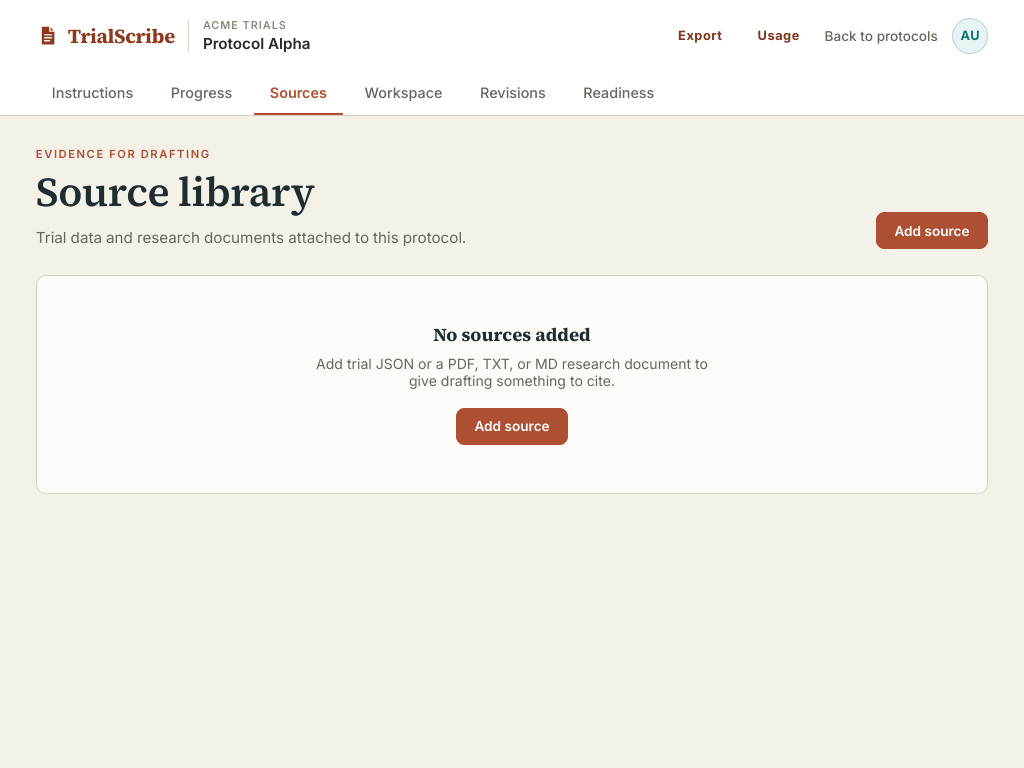
Test: SourceLibraryPage › tracks the accepted file types against the chosen kind
Click the button "Add source" in the row of "Source library" at (932,231), box [876,212,988,249]
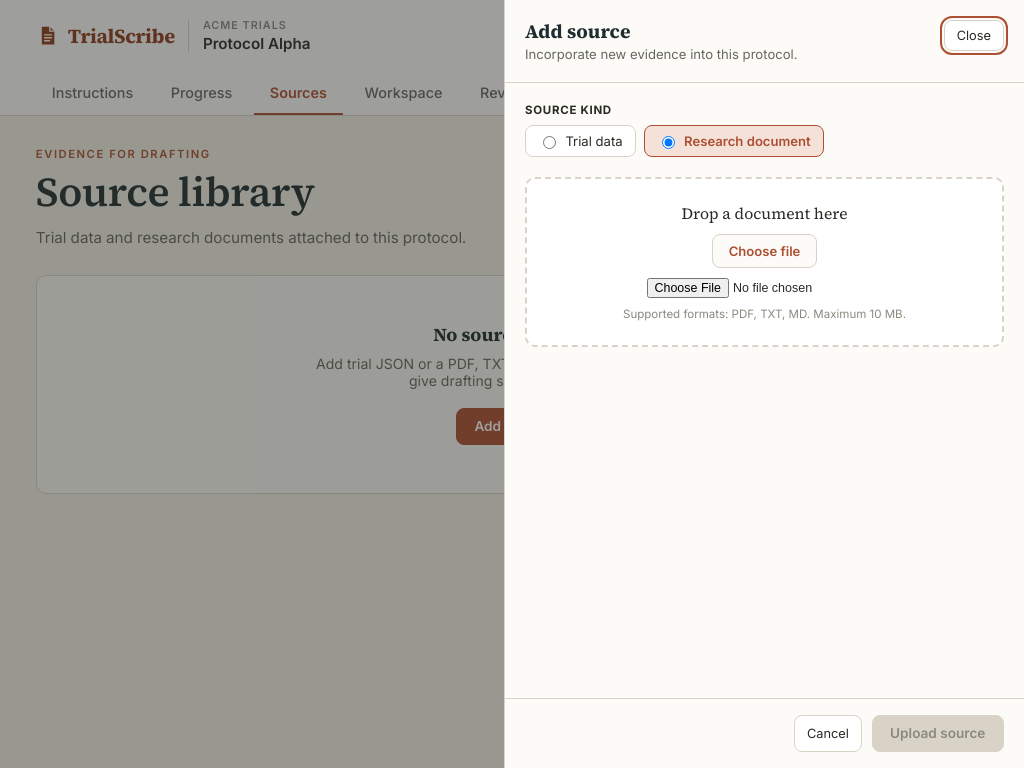
Click the radio button labelled "Trial data" at (550,143), box [543,136,556,149]
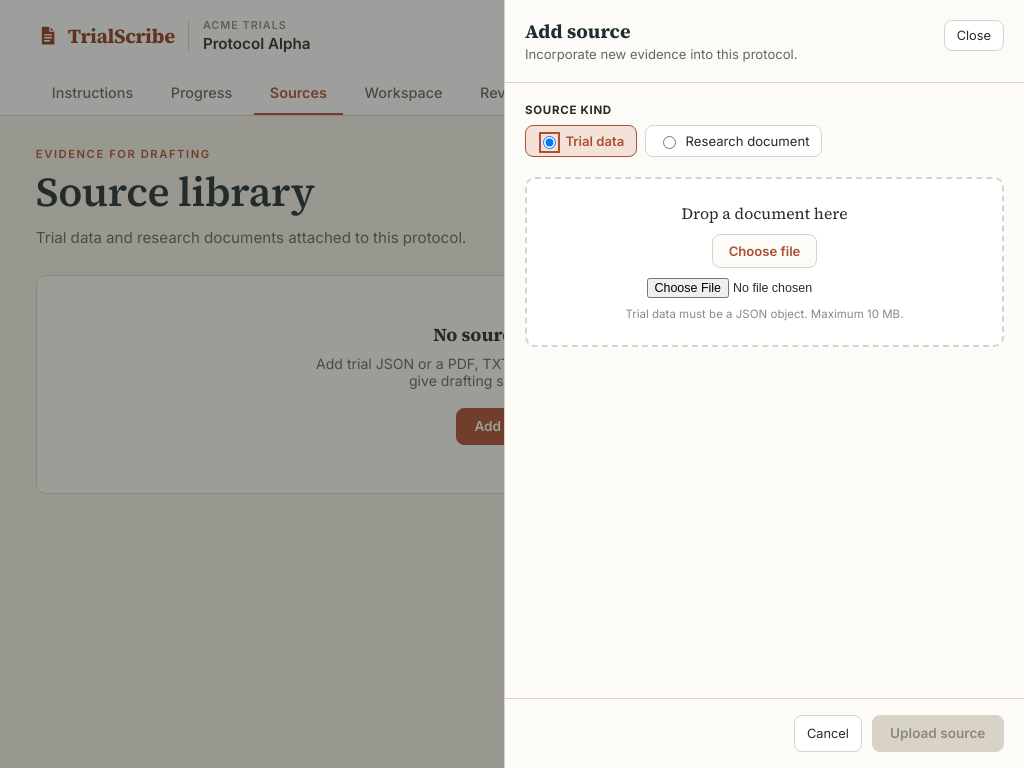
Expected: the text "Trial data must be a JSON object. Maximum 10 MB." is shown, [626,307,903,321]
